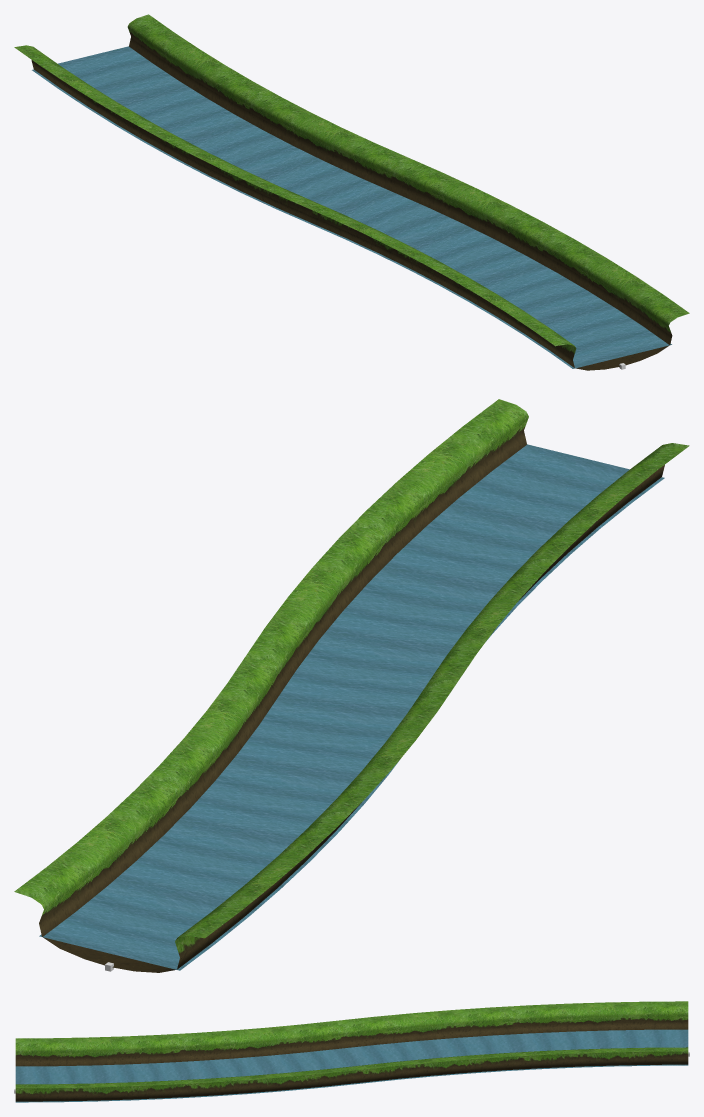
File: roadShift.left1.fbx
3 views of the same model, one above another, from view 1: azimuth 30°, elevation 25°; view 2: azimuth 150°, elevation 25°; view 3: azimuth 270°, elevation 25° (orthographic). The views are drawn at different scales.
Visible parts, largest first — view 1: MESH roadShift.left1; view 2: MESH roadShift.left1; view 3: MESH roadShift.left1.
Part boxes in pixels (x1=…): MESH roadShift.left1: x1=14, y1=14, x2=689, y2=370; MESH roadShift.left1: x1=14, y1=399, x2=689, y2=972; MESH roadShift.left1: x1=15, y1=1001, x2=688, y2=1102.
Size of what is drawn, in the model's own units: 2940 by 463 by 9650.
